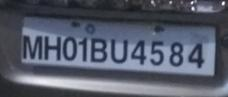0: (62, 37, 79, 62)
1: (77, 35, 89, 62)
4: (187, 42, 205, 69), (131, 38, 148, 66)
5: (150, 39, 166, 66)
8: (168, 41, 184, 67)
B: (90, 36, 107, 60)
H: (44, 35, 62, 62)
M: (22, 33, 43, 61)
U: (111, 37, 129, 64)
